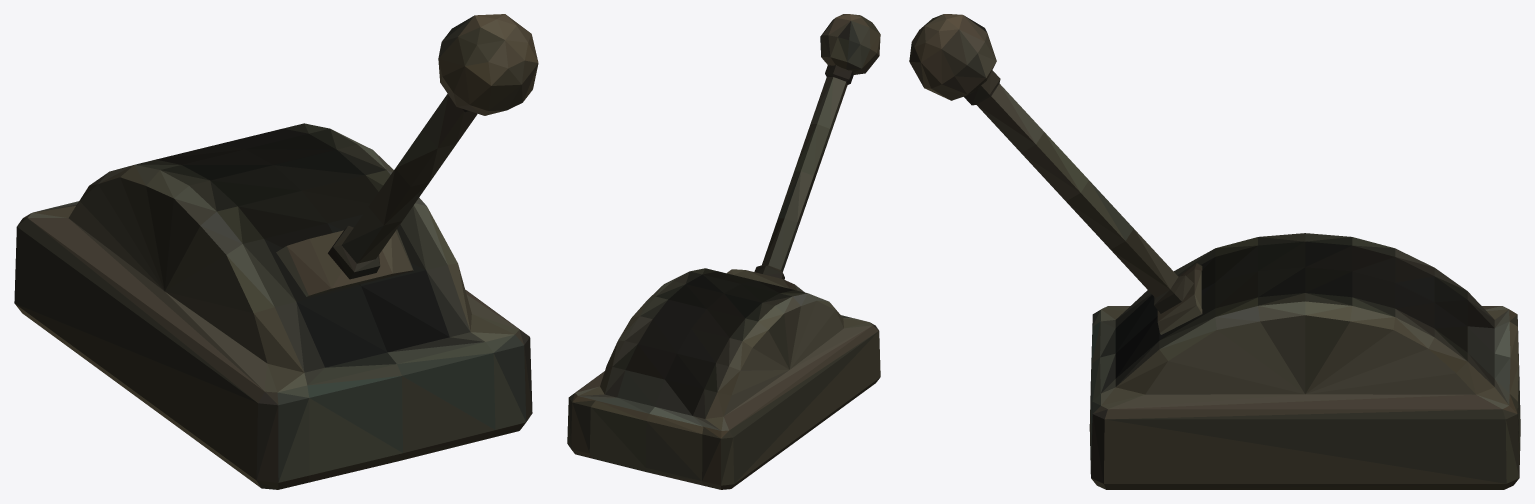
Rendered from prop_interact_lever_anim.fbx.
The picture shows the model from 3 angles, left to right: view 1: azimuth 30°, elevation 25°; view 2: azimuth 150°, elevation 25°; view 3: azimuth 270°, elevation 25°; orthographic projection. The views are drawn at different scales.
Parts seen in each view (by area): view 1: base, arm; view 2: base, arm; view 3: base, arm.
Boxes of the visible parts, x1,y1,x2,y2 form: base: (14, 123, 532, 489); arm: (276, 14, 538, 296); base: (567, 268, 880, 489); arm: (727, 14, 880, 292); base: (1089, 233, 1520, 489); arm: (909, 14, 1202, 334).
Size of the model in its own units: 0.6968 by 1.22 by 1.61.
